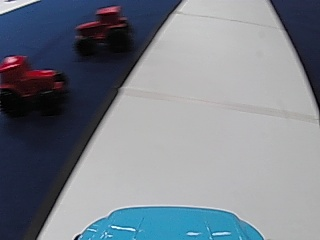tractor: (1, 54, 66, 116), (74, 3, 131, 56)
